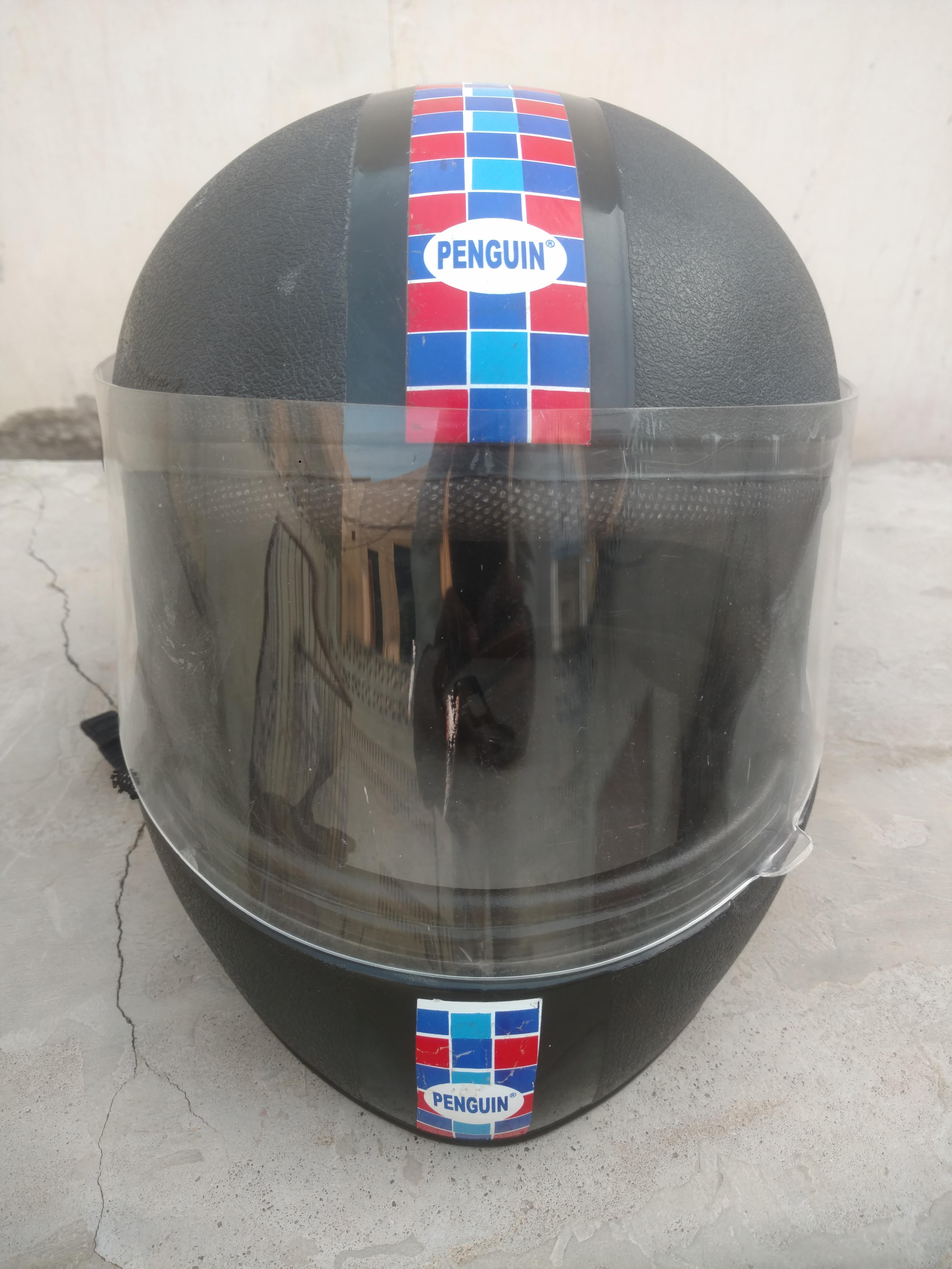helmet: (90, 78, 860, 1161)
